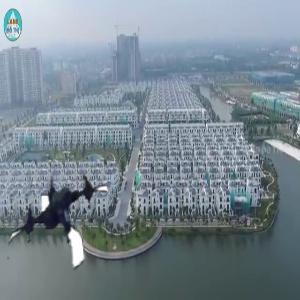drone: (2, 168, 121, 287)
